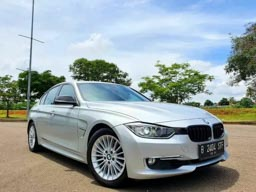plat: (199, 140, 224, 158)
